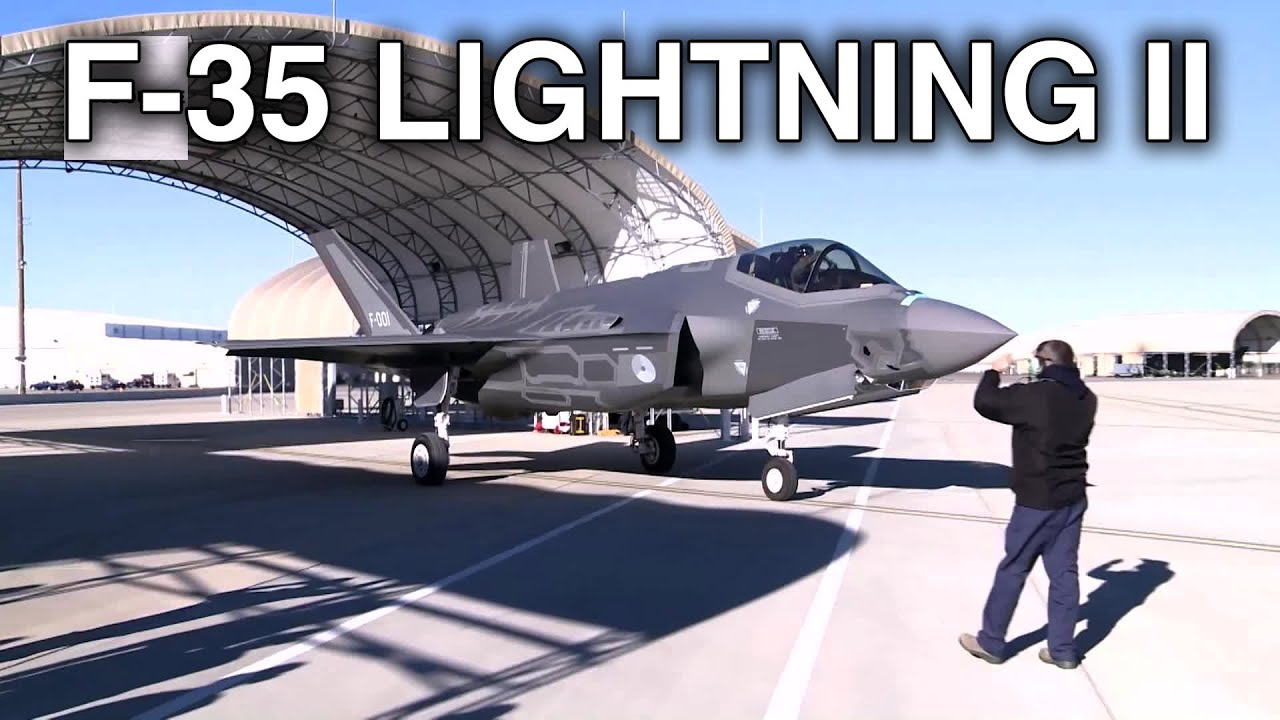F35: (204, 230, 1028, 507)
